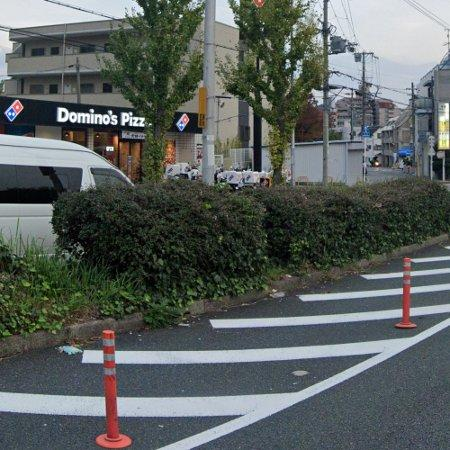crosswalks: (116, 247, 450, 450), (0, 350, 105, 450)
